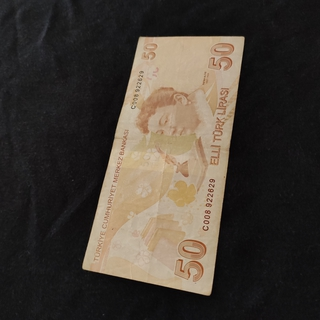50TLBack: (80, 35, 245, 296)
